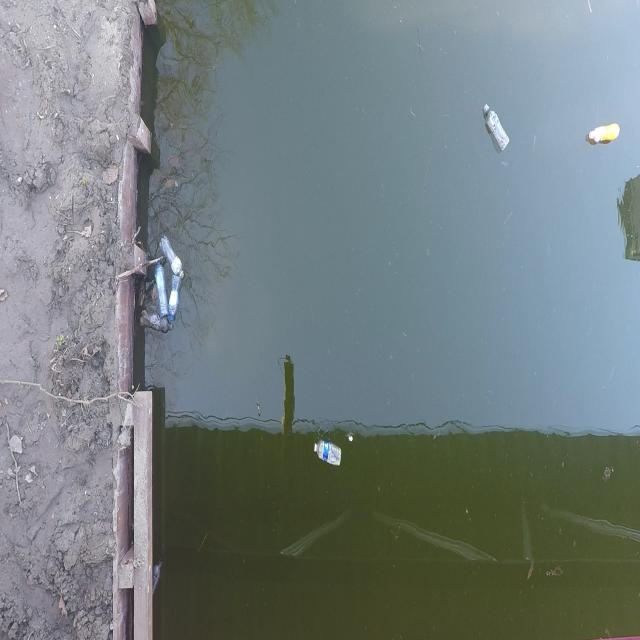Bouteille plastique: (481, 104, 513, 156), (158, 231, 186, 283), (585, 118, 623, 151), (139, 309, 176, 336), (310, 442, 344, 471), (153, 258, 169, 316), (168, 272, 182, 322)
